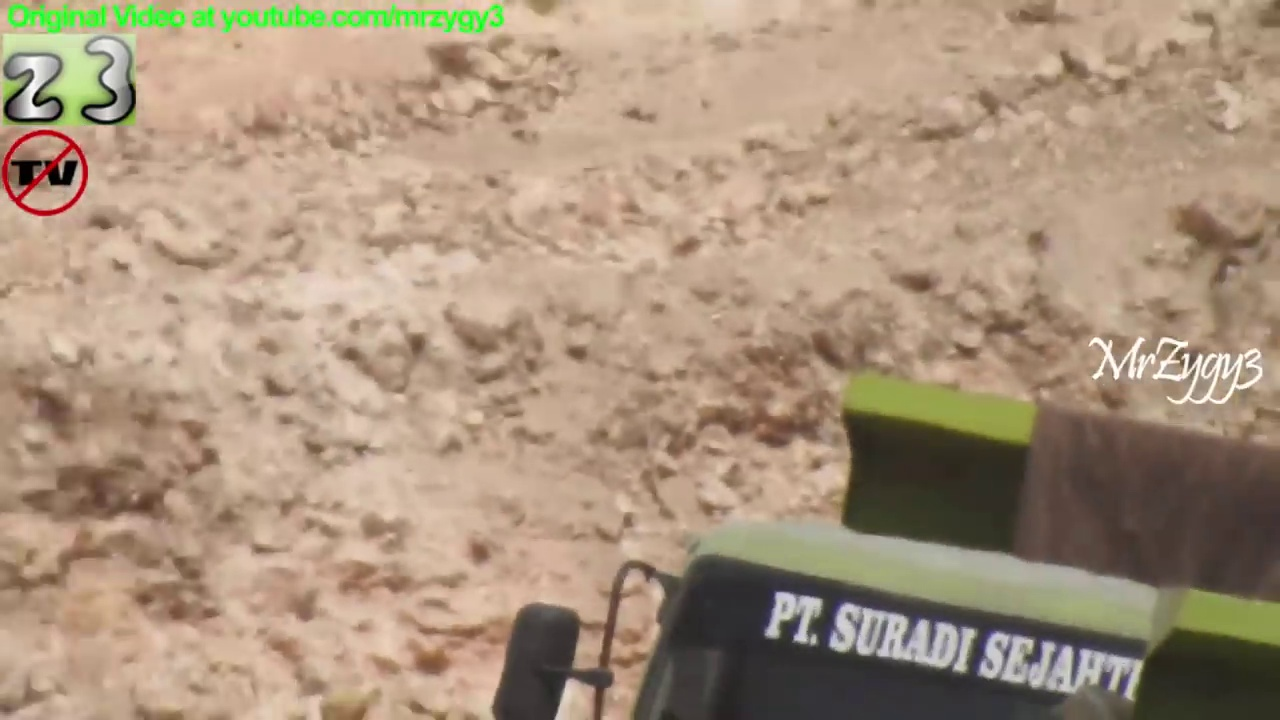truck: (486, 368, 1280, 720)
